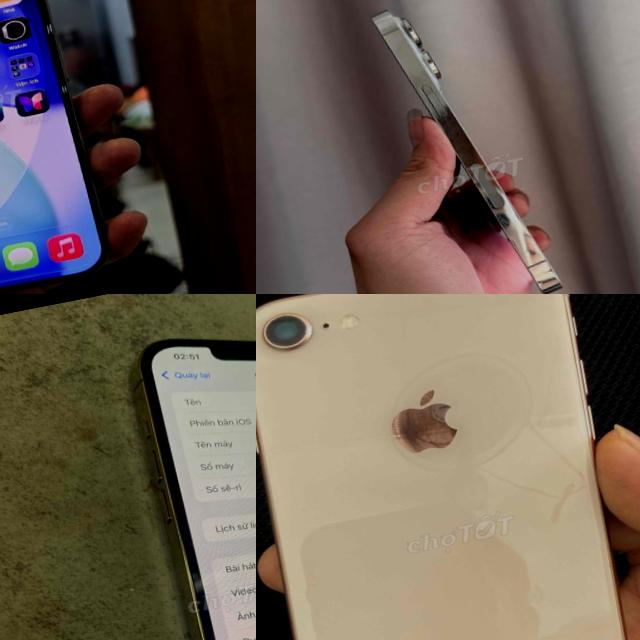gen_12_13: (123, 294, 256, 640)
gen_14: (369, 0, 582, 294)
gen_15: (0, 0, 140, 294)
gen_7_8: (256, 294, 640, 640)
